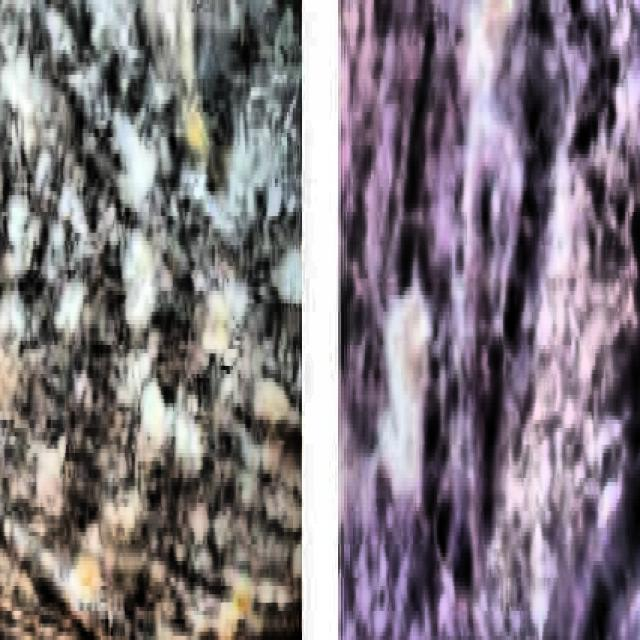Affected: (499, 79, 640, 640), (0, 50, 123, 640)
